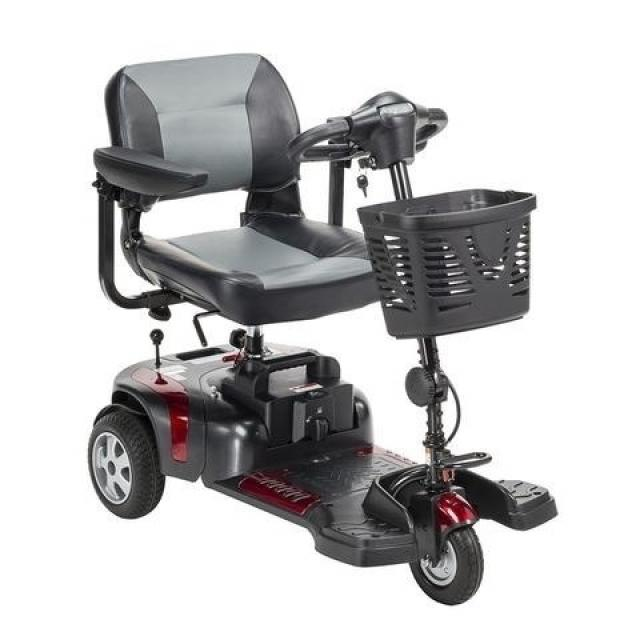wheelchair: (75, 38, 568, 615)
